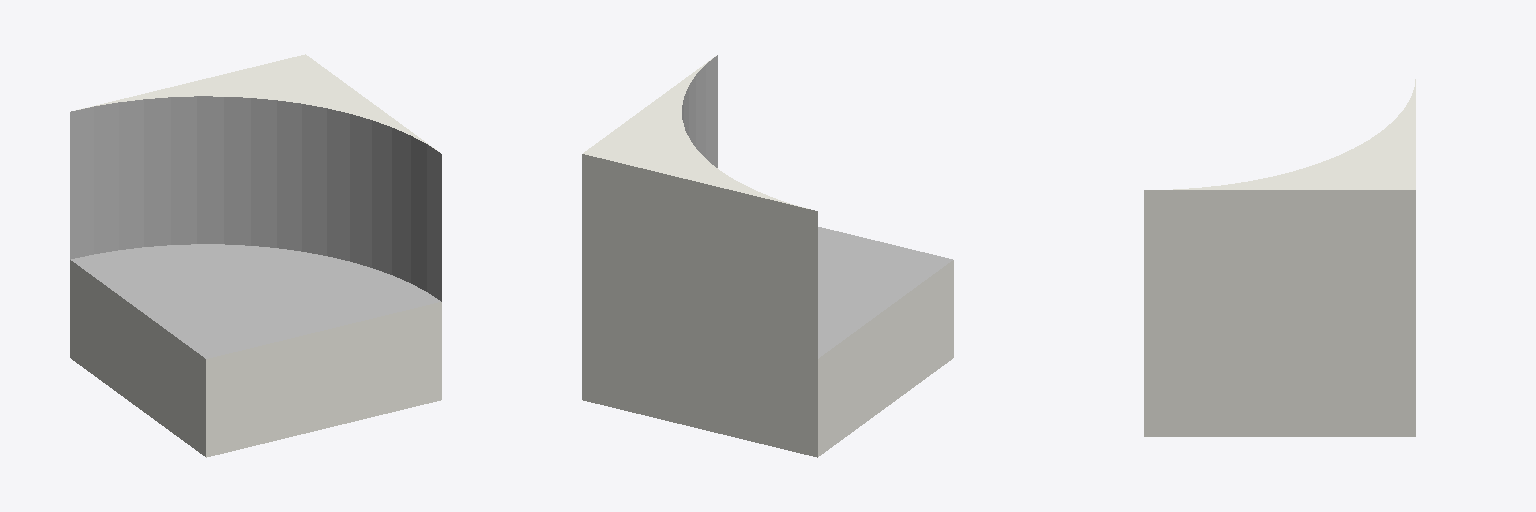
File: water_corner_tile.obj
3 views of the same model, side by side, from view 1: azimuth 30°, elevation 25°; view 2: azimuth 150°, elevation 25°; view 3: azimuth 270°, elevation 25° (orthographic).
Parts seen in each view (by area): view 1: tile; view 2: tile; view 3: tile.
Part boxes in pixels (x1,y1,x2,y2): tile: (70, 54, 441, 457); tile: (582, 55, 953, 457); tile: (1144, 79, 1415, 436).
Bounding box in the file's own units: 1 × 1 × 1.